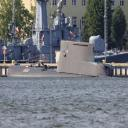submarine: (8, 36, 114, 79)
